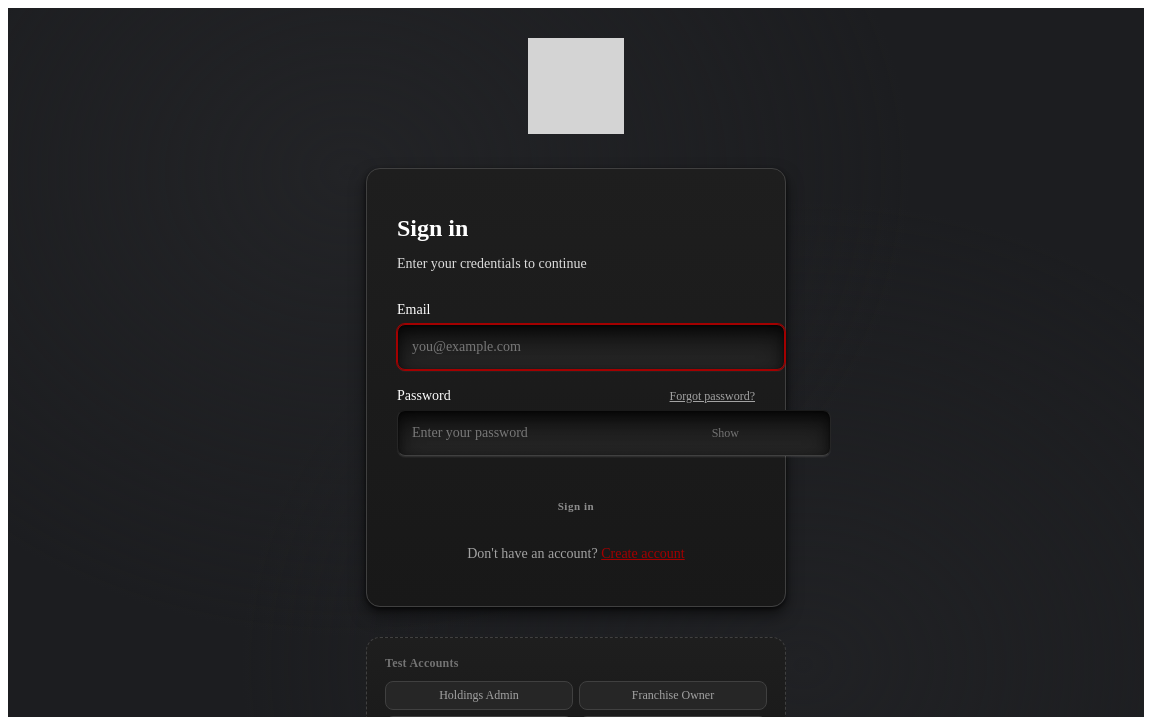
password visibility toggle › shows "Hide" text after revealing password
Click the button "Show".
click(725, 433)  # box [706, 422, 745, 445]
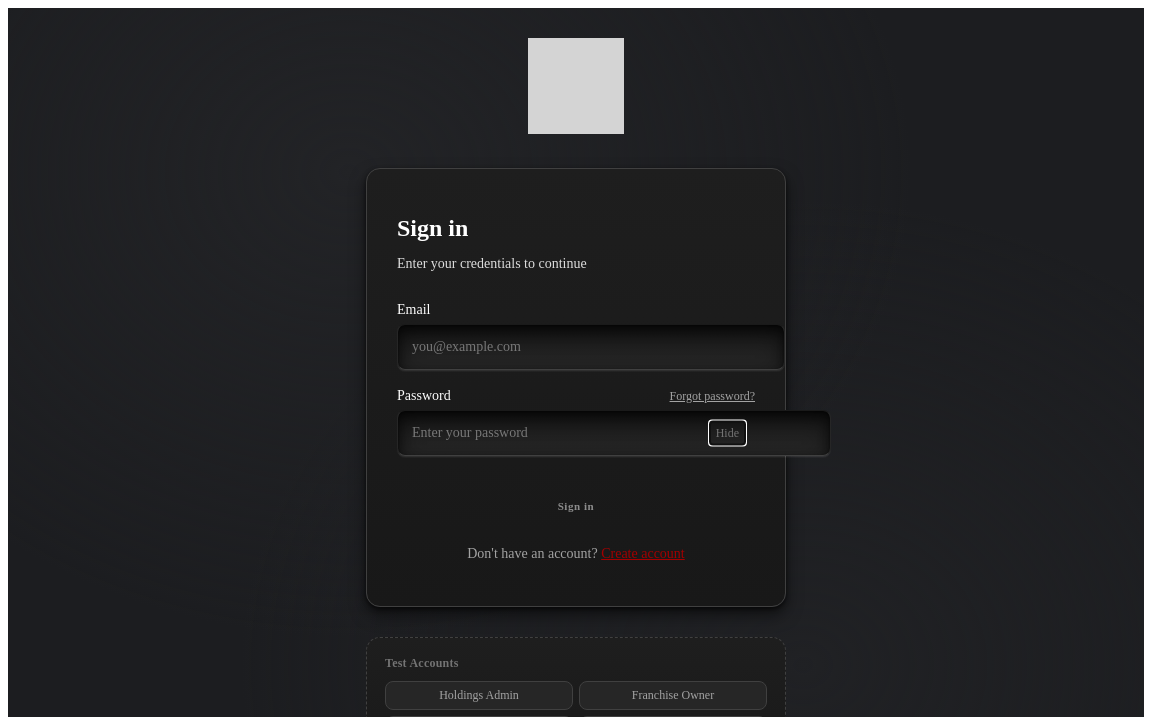
expect the button "Hide" is shown: met, box [710, 422, 745, 445]
